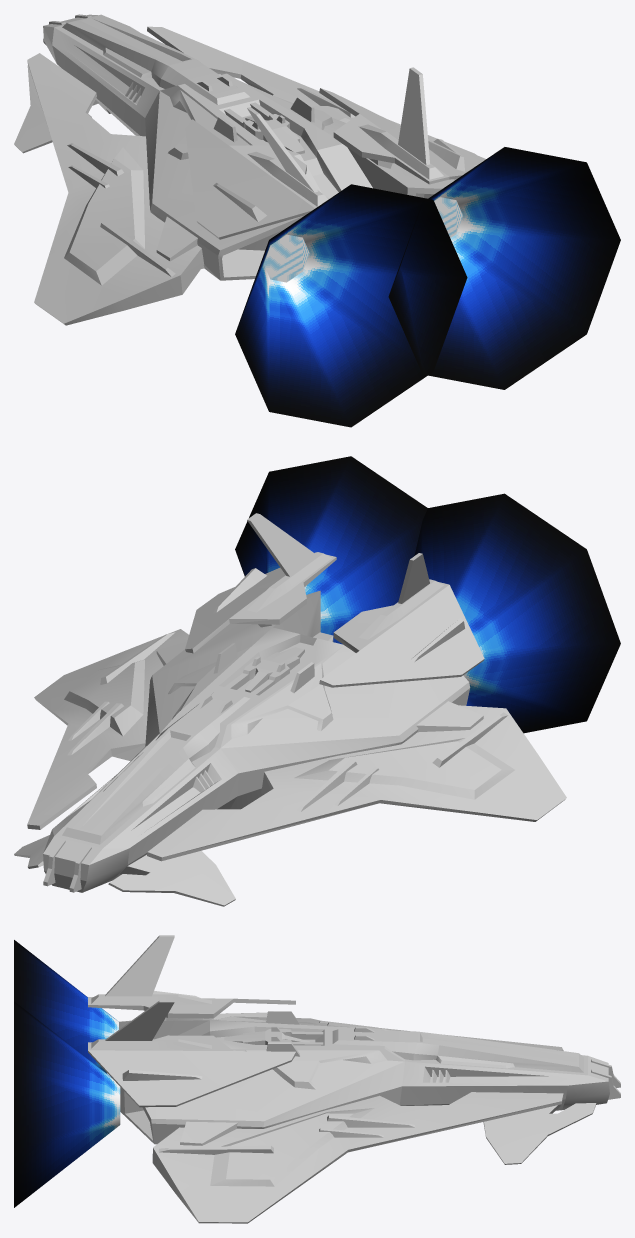
File: Fighter.fbx
The picture shows the model from 3 angles, top to bottom: view 1: azimuth 30°, elevation 25°; view 2: azimuth 150°, elevation 25°; view 3: azimuth 270°, elevation 25°; orthographic projection. The views are drawn at different scales.
Parts seen in each view (by area): view 1: Fighter, Thrust, Glow; view 2: Fighter, Thrust, Glow; view 3: Fighter, Thrust, Glow.
Boxes of the visible parts, bbox=[...] form: Fighter: bbox=[14, 14, 485, 325]; Thrust: bbox=[235, 147, 620, 427]; Glow: bbox=[81, 18, 433, 277]; Fighter: bbox=[14, 513, 566, 906]; Thrust: bbox=[235, 456, 620, 733]; Glow: bbox=[80, 737, 185, 830]; Fighter: bbox=[88, 935, 620, 1223]; Thrust: bbox=[14, 940, 120, 1207]; Glow: bbox=[124, 1038, 576, 1140].
Bounding box in the file's own units: 19.67 × 9.32 × 25.01.
